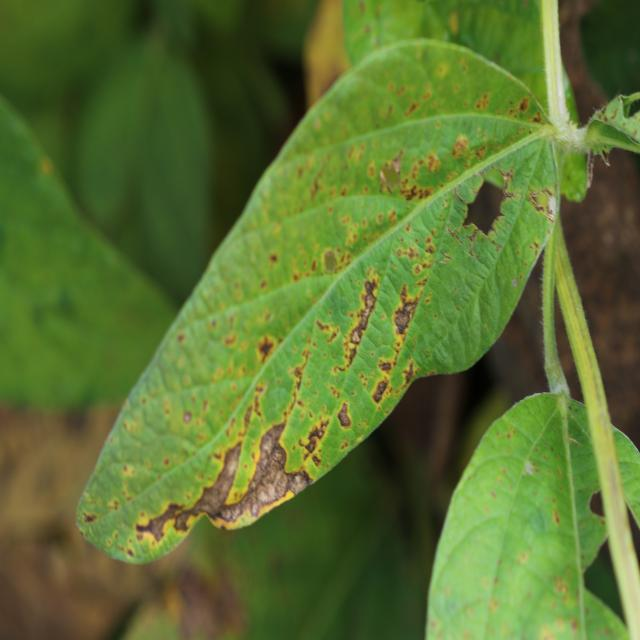Bacterial_Blight: (258, 416, 296, 506), (136, 501, 188, 542), (487, 168, 521, 225), (353, 291, 376, 335), (528, 186, 557, 220), (242, 389, 266, 428), (396, 181, 436, 203), (431, 334, 456, 368), (289, 359, 308, 398), (379, 159, 402, 191), (315, 318, 338, 346), (257, 335, 276, 362), (467, 228, 483, 259), (401, 360, 417, 390), (310, 168, 325, 199), (394, 309, 412, 334), (445, 226, 465, 247), (454, 186, 474, 207), (452, 134, 469, 157), (337, 402, 352, 428), (372, 379, 388, 403), (585, 151, 595, 187), (323, 250, 338, 273), (427, 153, 441, 174), (424, 235, 436, 255), (600, 150, 612, 167), (251, 499, 261, 517), (81, 512, 97, 523), (379, 360, 392, 372), (616, 94, 625, 110), (182, 411, 192, 423), (511, 277, 518, 289)
Soybean: (77, 2, 640, 563)
